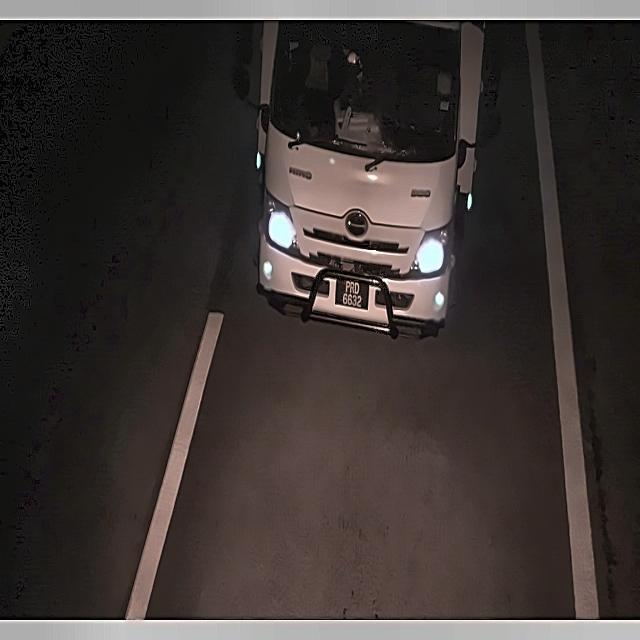car: (336, 269, 367, 319)
